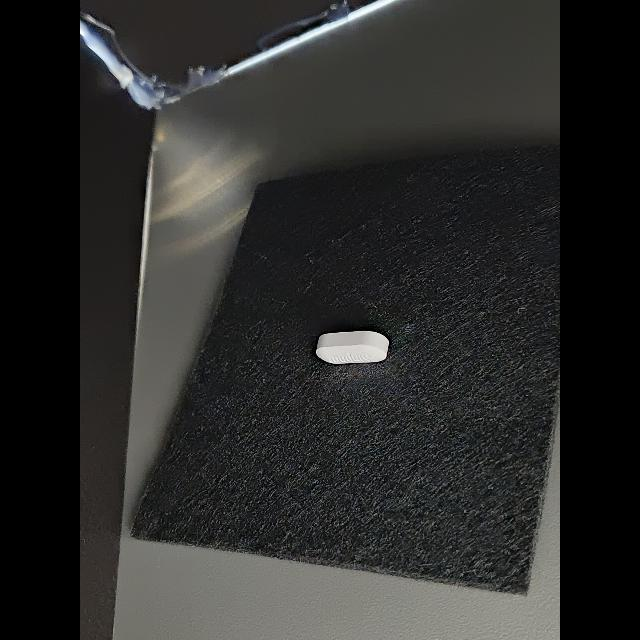Intact Pill: (316, 331, 389, 364)
